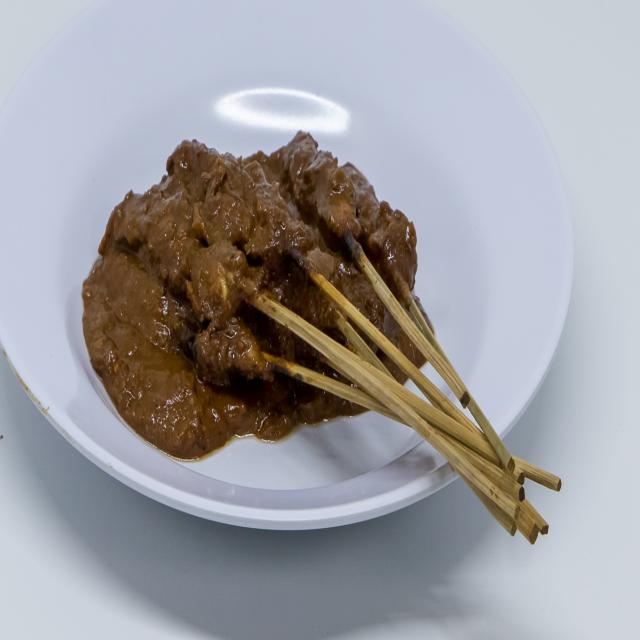Sate-Ayam: (82, 84, 445, 433)
